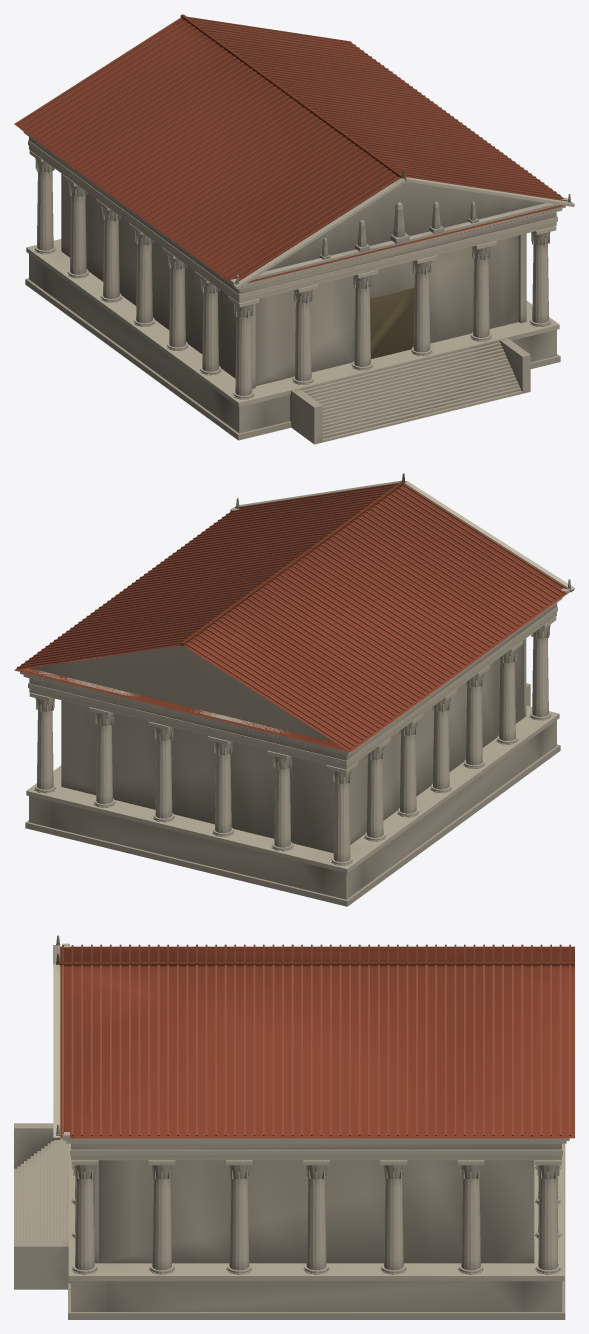
The model's file is temple-of-jupiter-republic.glb.
3 renders of one model, top to bottom at view 1: azimuth 30°, elevation 25°; view 2: azimuth 150°, elevation 25°; view 3: azimuth 270°, elevation 25°, orthographic. The views are drawn at different scales.
Visible parts, largest first — view 1: p2_roof, p1_columns, p0_podium; view 2: p2_roof, p1_columns, p0_podium; view 3: p2_roof, p1_columns, p0_podium.
Boxes of the visible parts, x1,y1,x2,y2 form: p2_roof: (14, 14, 574, 303); p1_columns: (29, 150, 556, 399); p0_podium: (25, 239, 560, 444); p2_roof: (14, 473, 574, 769); p1_columns: (29, 617, 556, 865); p0_podium: (25, 683, 560, 906); p2_roof: (53, 935, 574, 1160); p1_columns: (71, 1160, 561, 1274); p0_podium: (14, 1123, 565, 1319).
Bounding box in the file's own units: 57.56 × 38.26 × 70.82.
